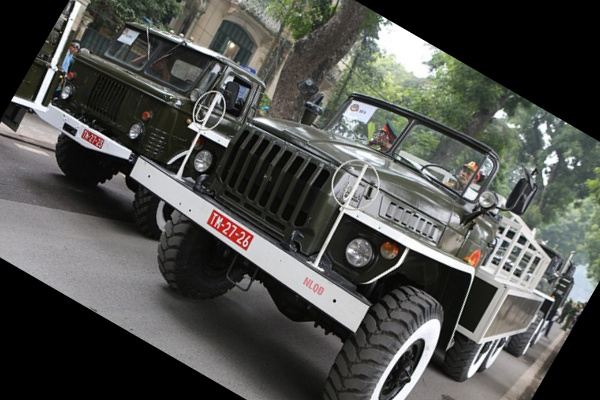plate: (201, 204, 257, 254), (78, 127, 110, 154)
